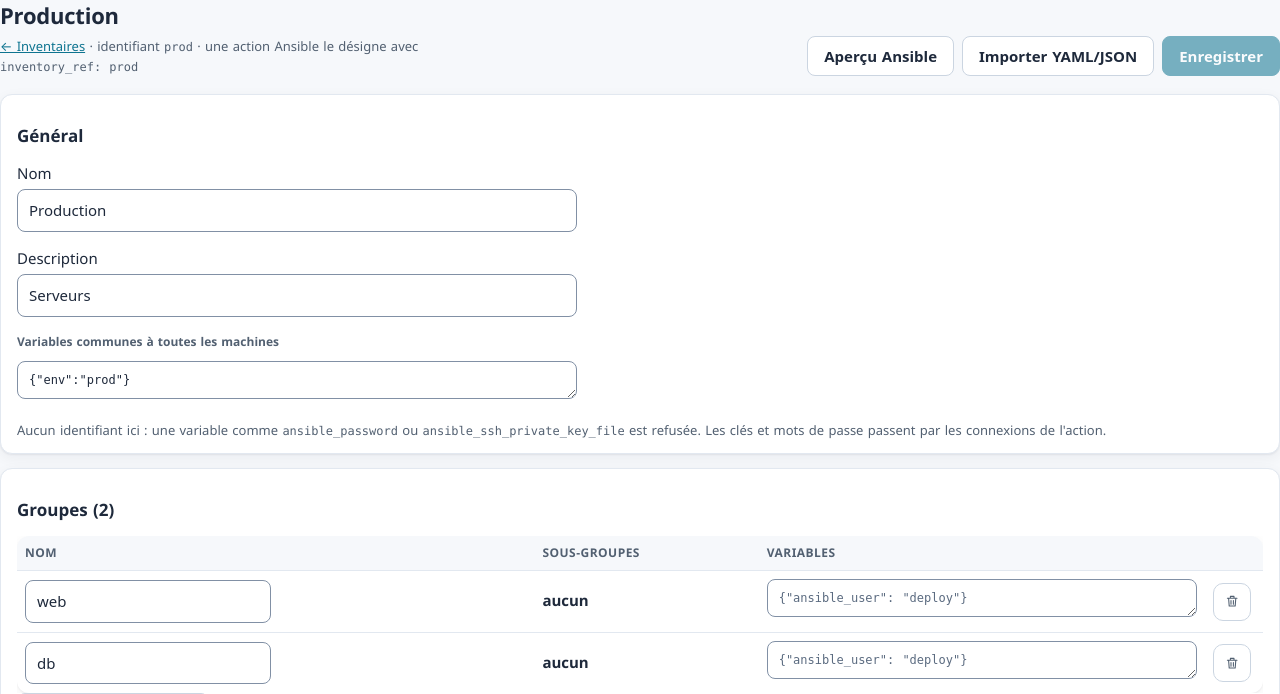
Inventaire : édition › l'aperçu Ansible montre la version enregistrée
Click the button "Aperçu Ansible". click: coordinates (881, 56)
box: [807, 36, 954, 76]
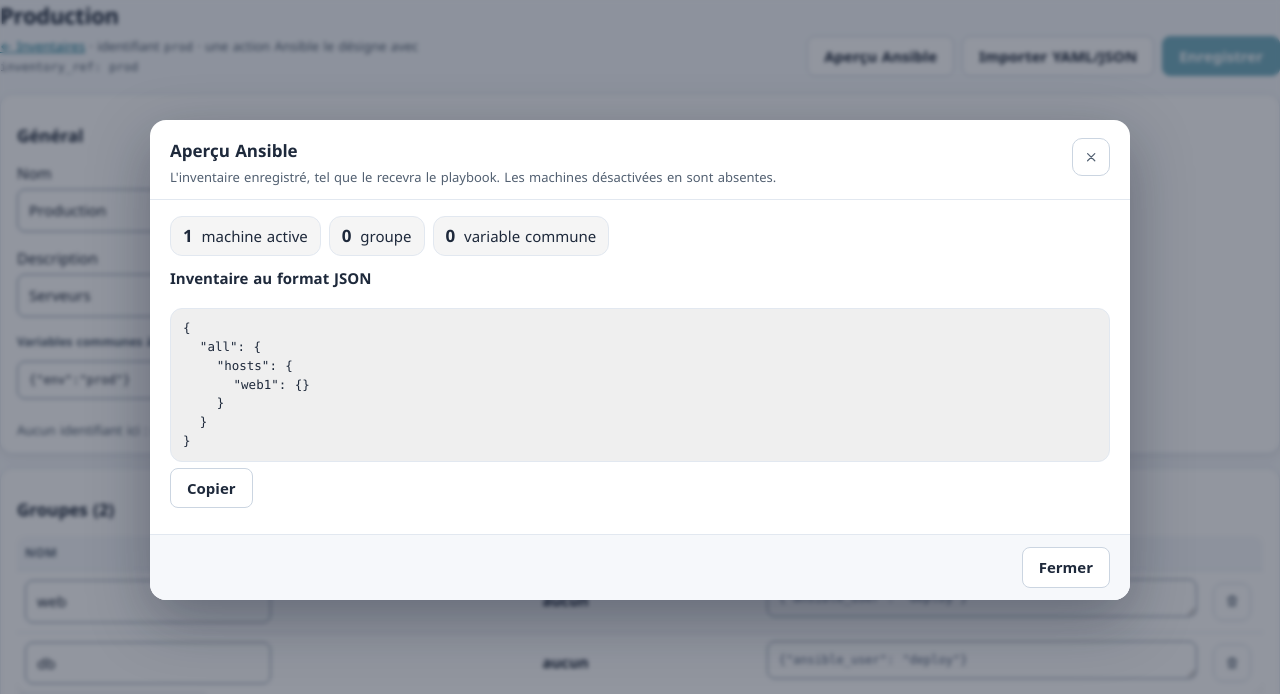
Expected: the text named "Inventaire au format JSON" shows "\"web1\"", [183, 320, 310, 448]
Expected: the list item "machine active" is shown, [170, 216, 321, 256]
Expected: the button "Copier" is shown, [170, 468, 253, 508]
